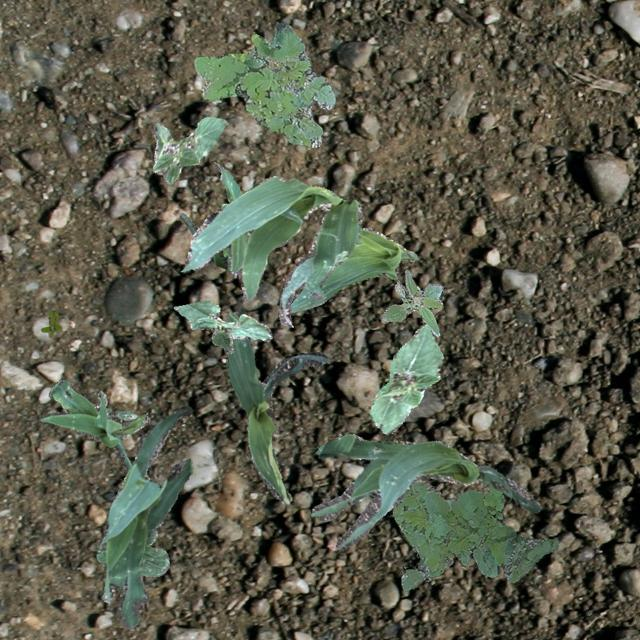crop: (180, 174, 362, 324), (310, 432, 540, 550), (100, 404, 192, 628), (225, 308, 328, 502), (290, 226, 418, 312), (39, 378, 150, 474), (370, 324, 442, 434), (178, 162, 240, 270), (172, 300, 272, 354), (152, 116, 225, 182), (95, 530, 168, 576)
weed: (392, 478, 558, 590), (194, 21, 334, 146), (378, 268, 442, 336), (40, 310, 60, 336), (106, 408, 136, 420)
